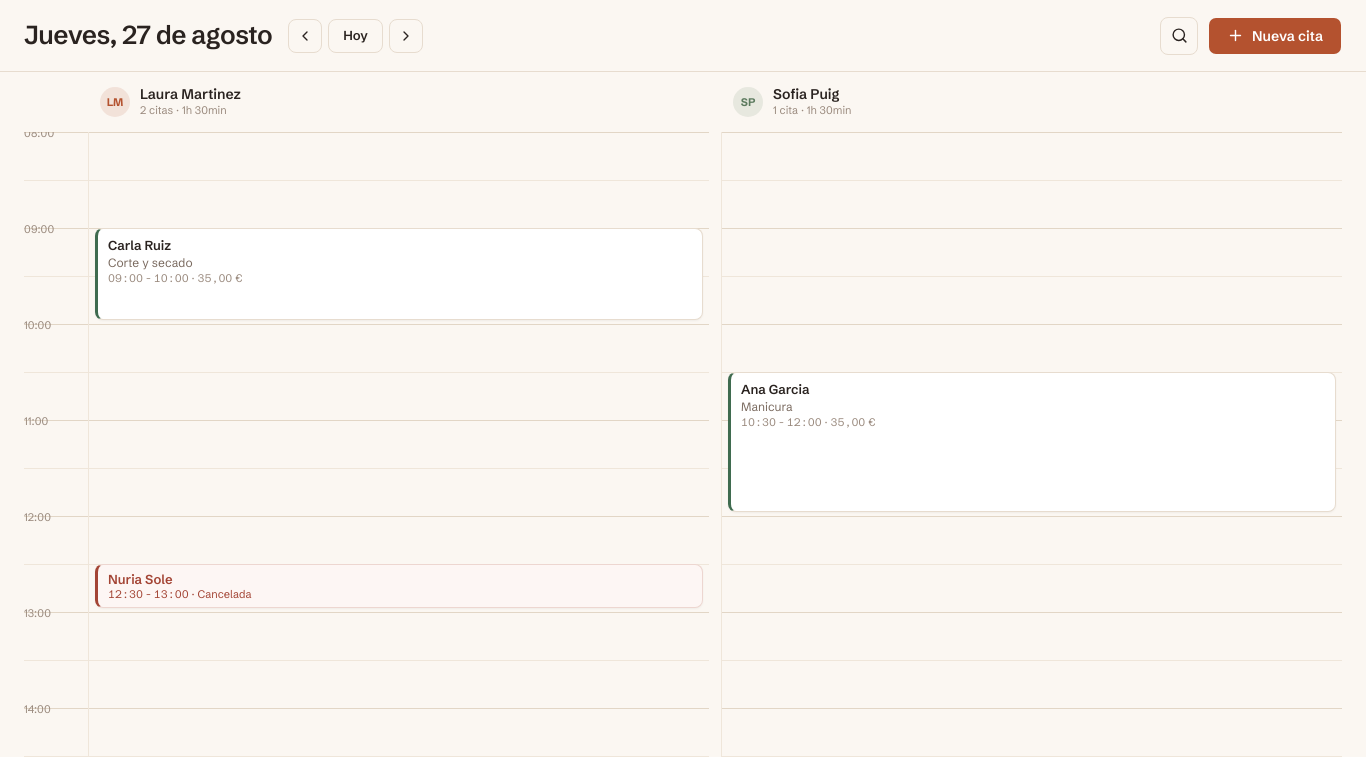
it: CalendarPage › 'Hoy' devuelve el dia visible a hoy
Click the button named "Dia siguiente". click: coordinates (406, 36)
box: [389, 18, 423, 52]
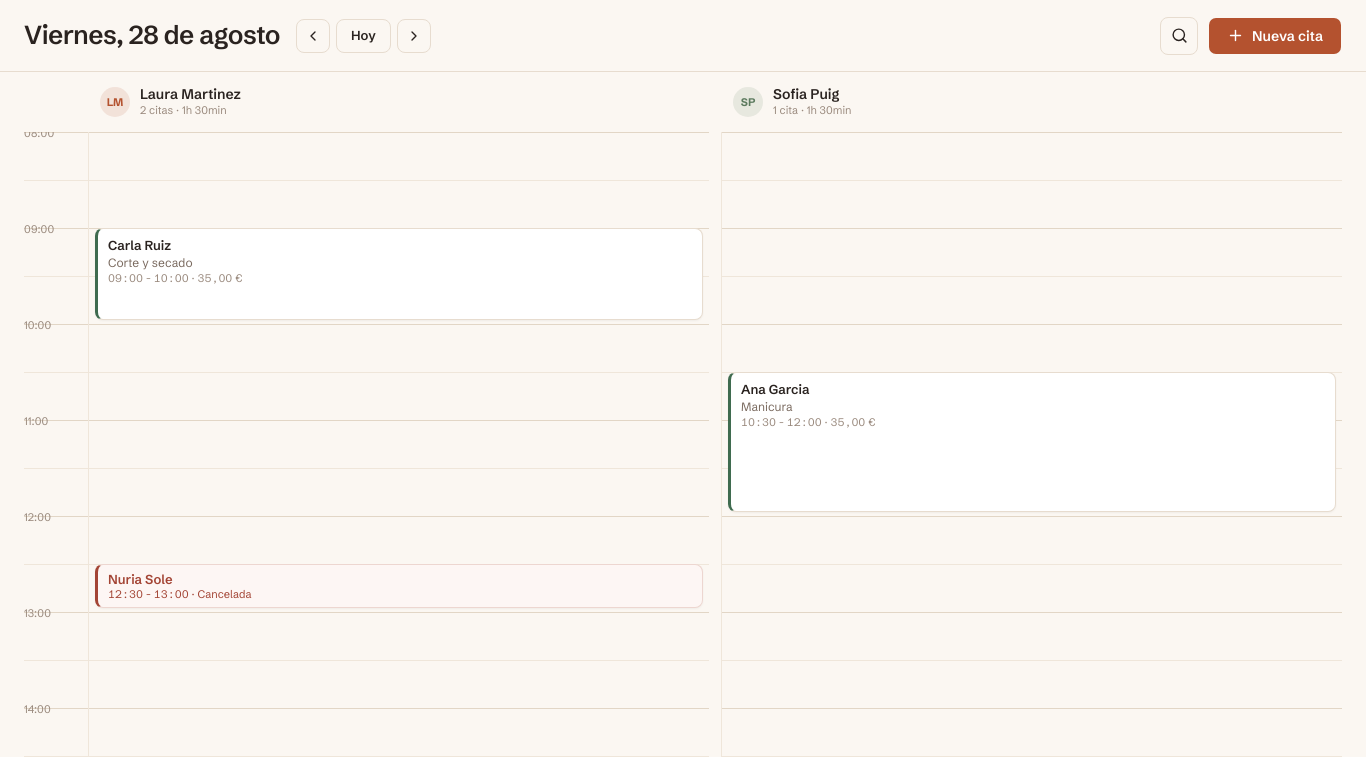
Click the button named "Dia siguiente". click: coordinates (414, 36)
box: [397, 18, 431, 52]
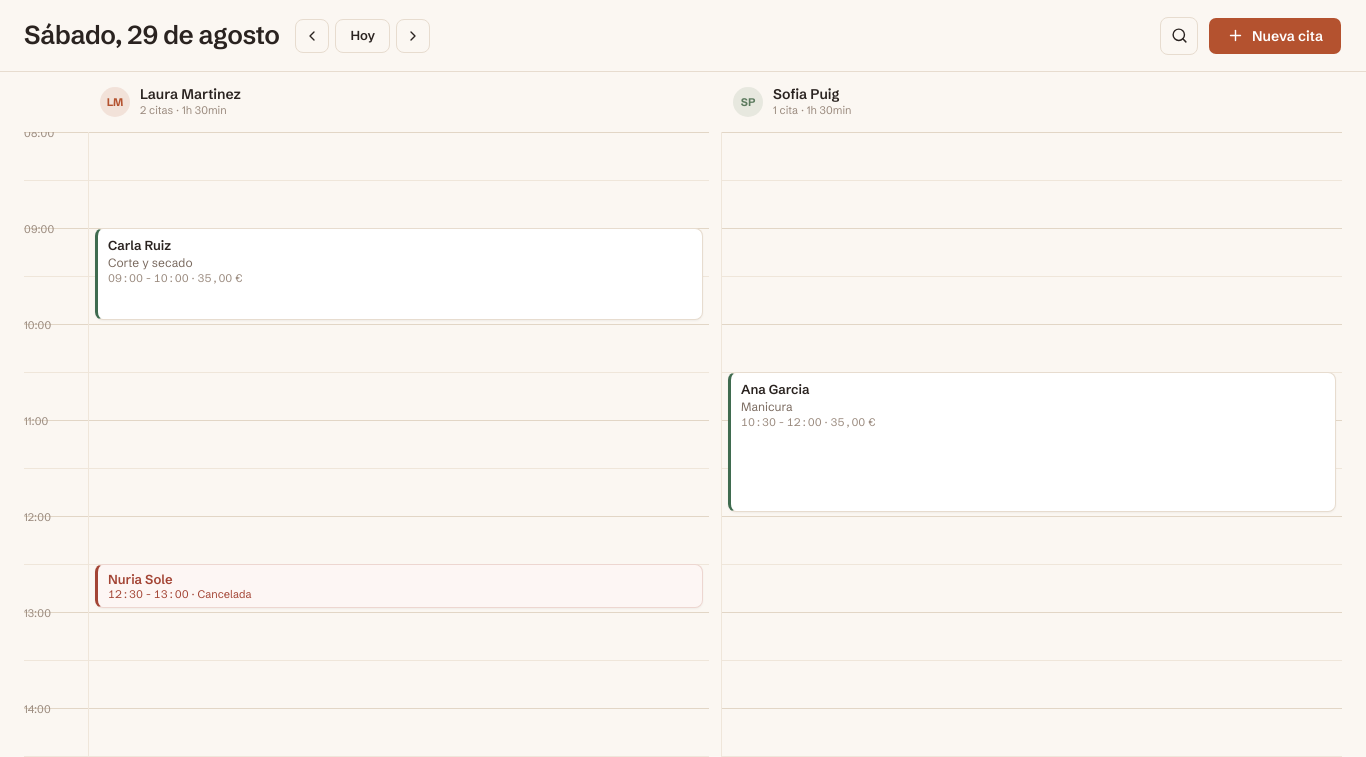
Click the button "Hoy". click: coordinates (363, 36)
box: [335, 18, 390, 52]
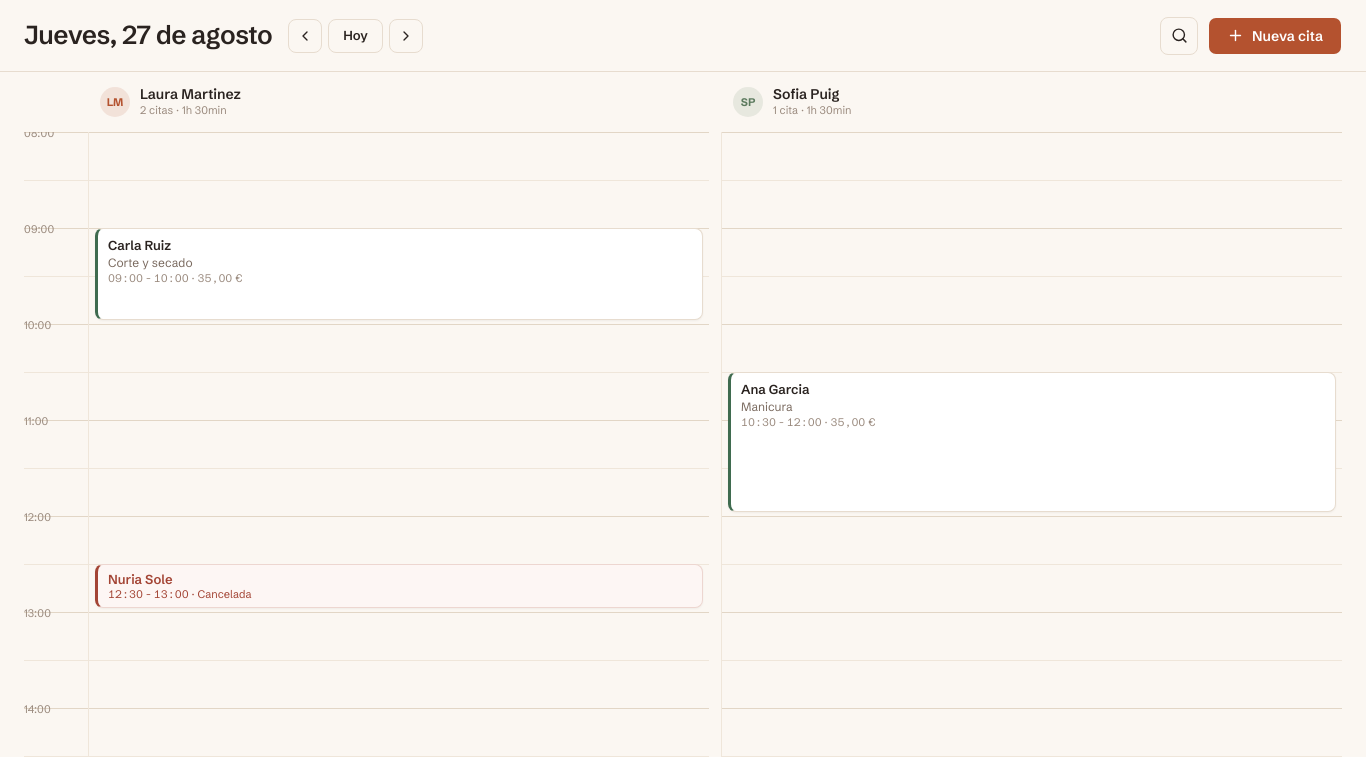
Check: the heading reads "Jueves, 27 de agosto", box [24, 19, 272, 51]
